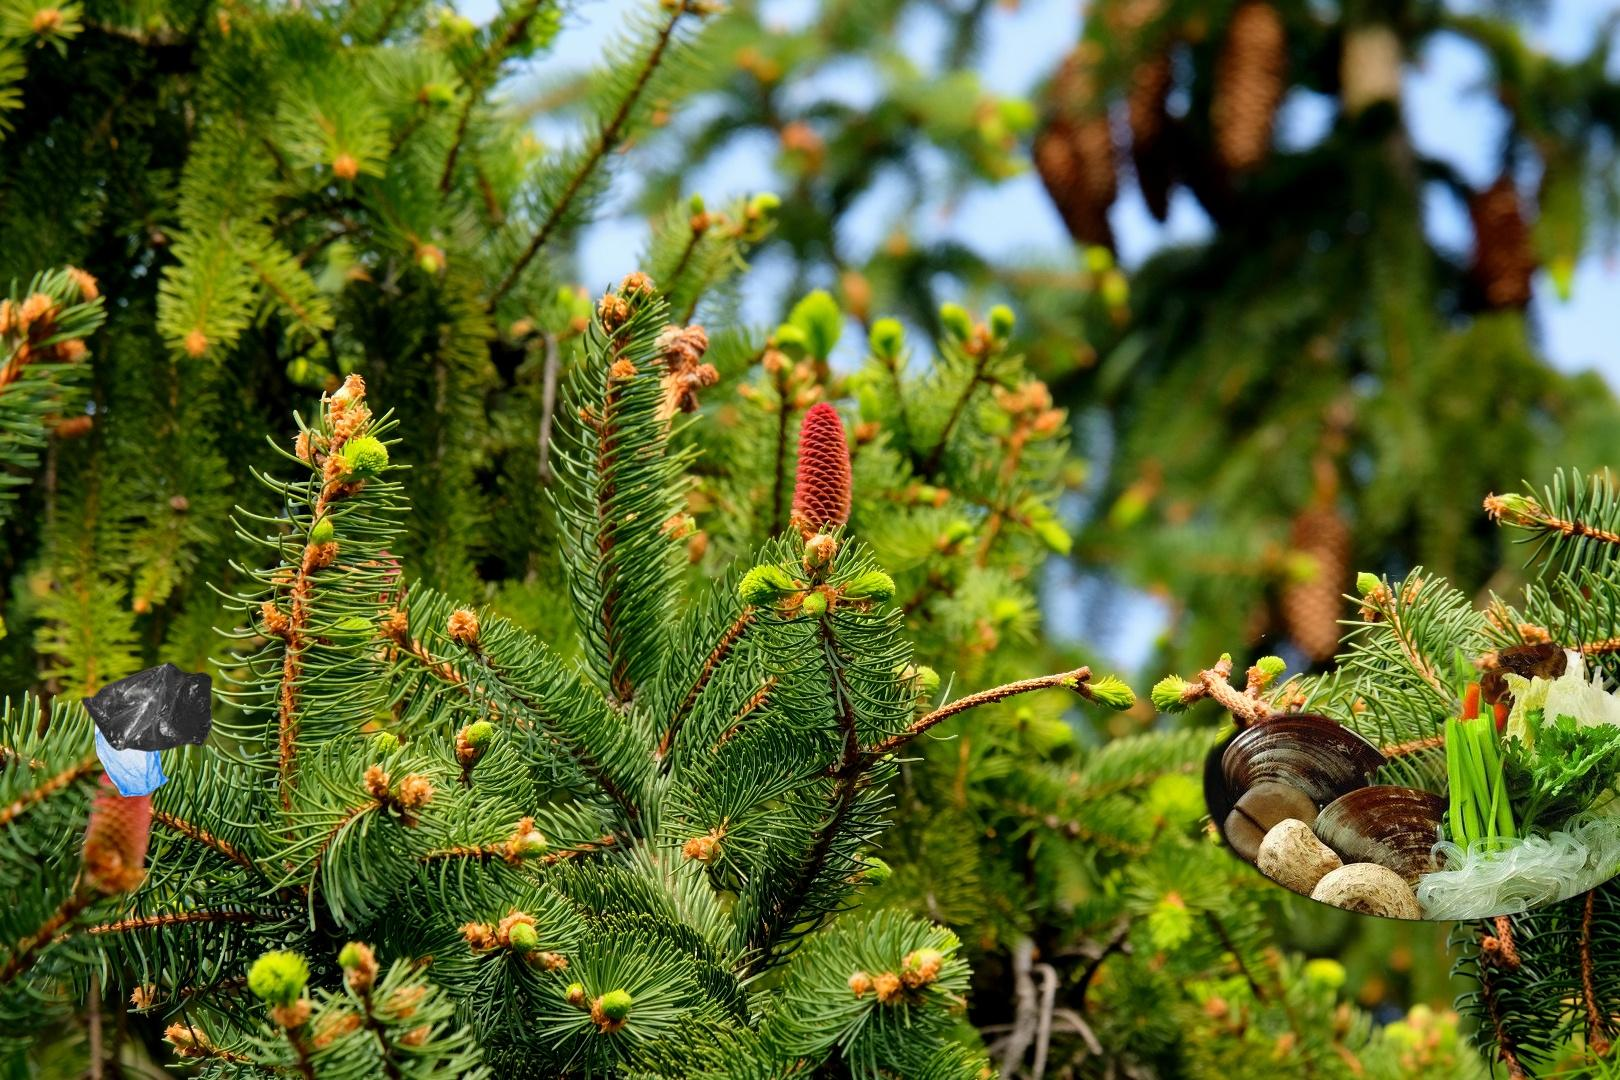biological: (1196, 546, 1620, 926)
plastic-bag: (80, 661, 213, 800)
